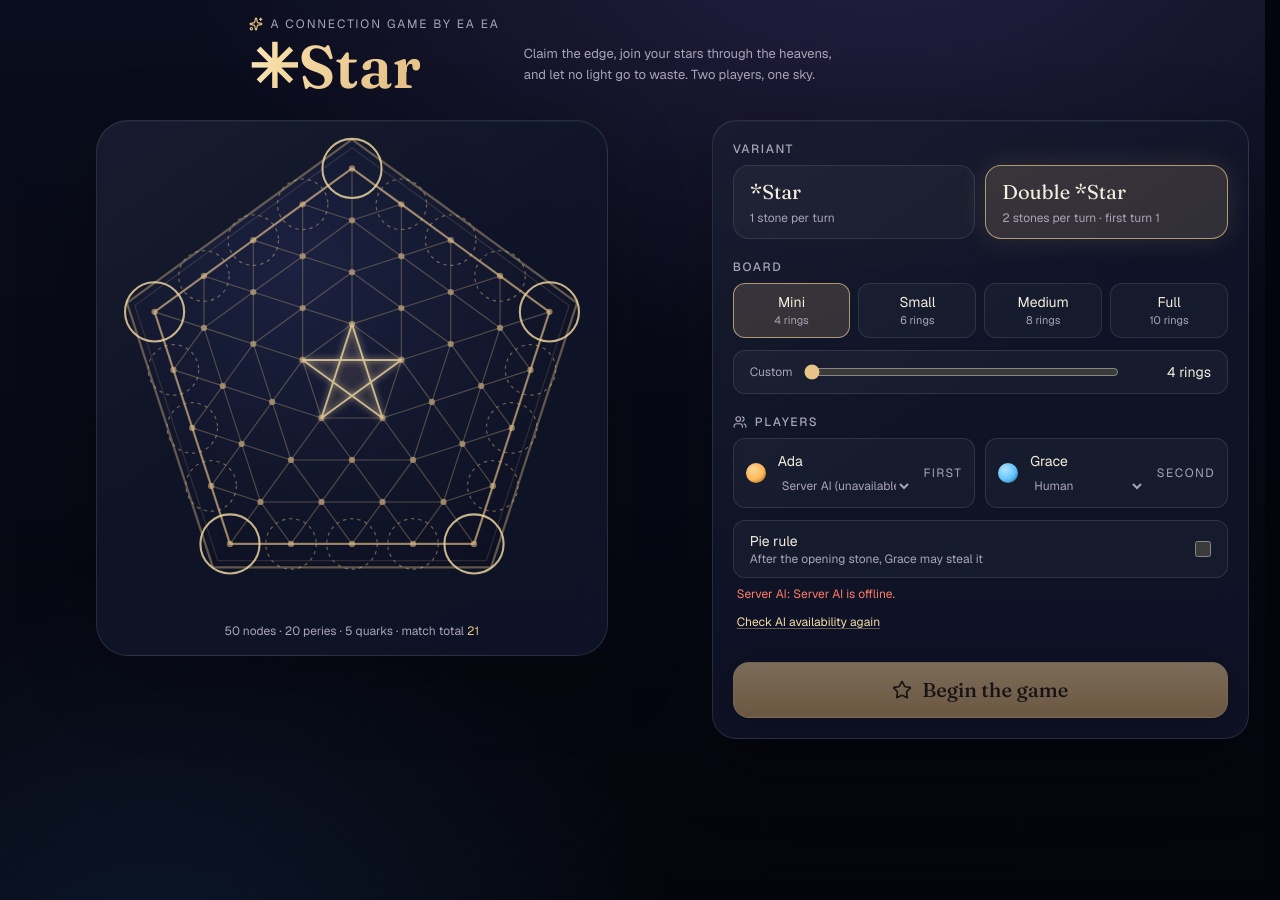
Test: SetupScreen › blocks setup until a selected controller is ready and supports rechecking
expect the message reads "Server AI: Server AI is offline.": met, box [737,586,895,602]
expect the button "Begin the game" is disabled: met, box [733,662,1228,718]
Click the button "Check AI availability again": (808, 622) [737,606,880,638]
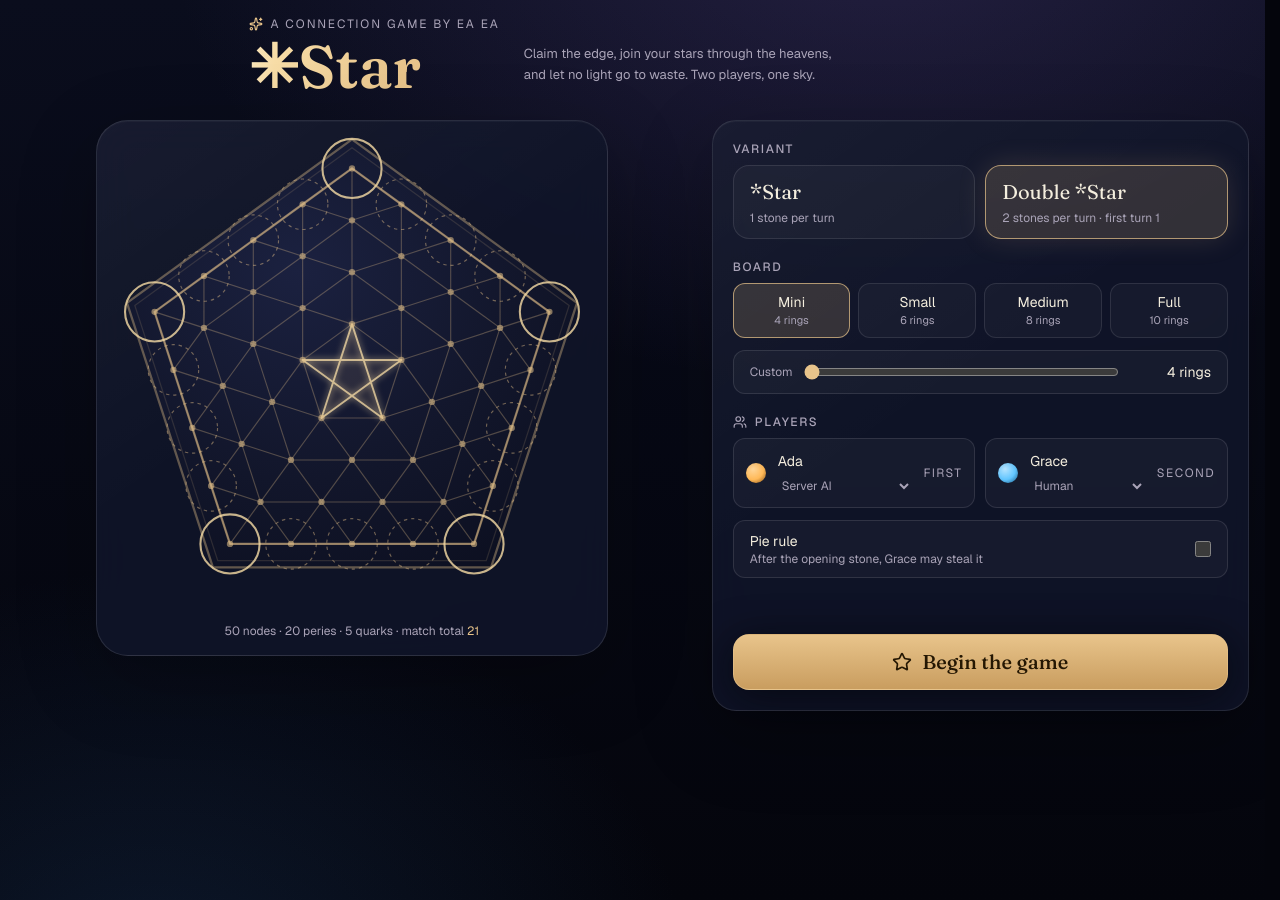
expect the button "Begin the game" is enabled: met, box [733,634,1228,690]
